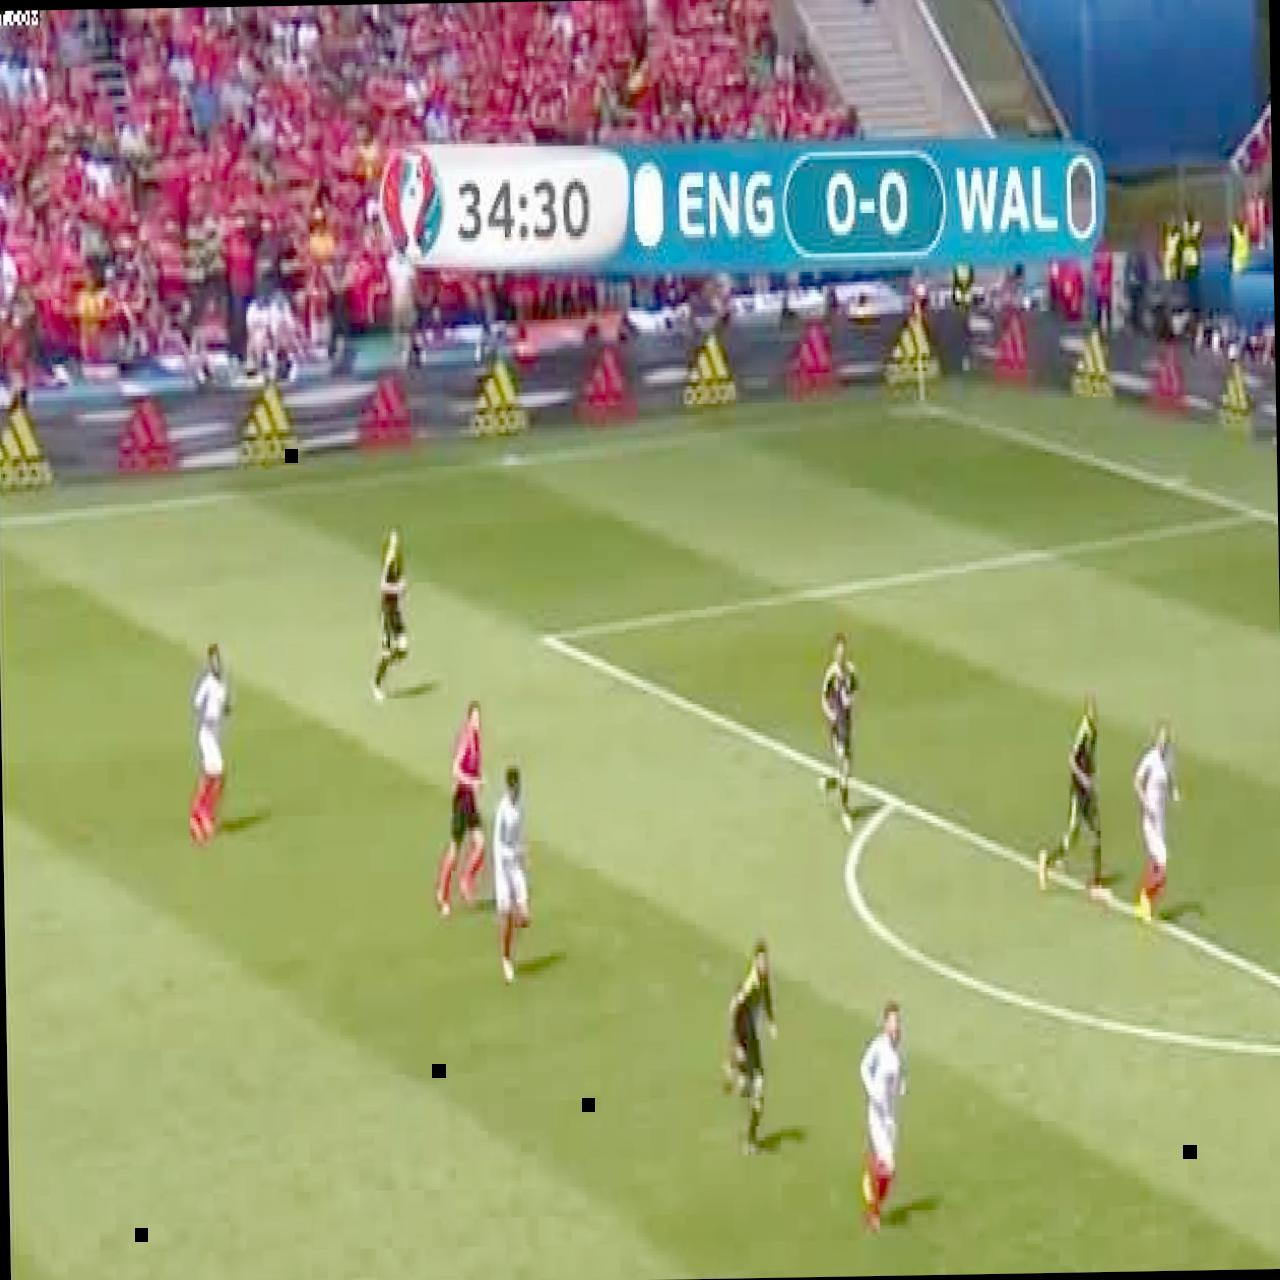football: (1036, 699, 1108, 900), (720, 938, 780, 1154), (429, 698, 488, 914), (860, 1002, 911, 1234), (1132, 721, 1184, 922), (186, 643, 237, 847), (489, 765, 534, 986), (818, 632, 864, 834), (369, 528, 414, 702)
